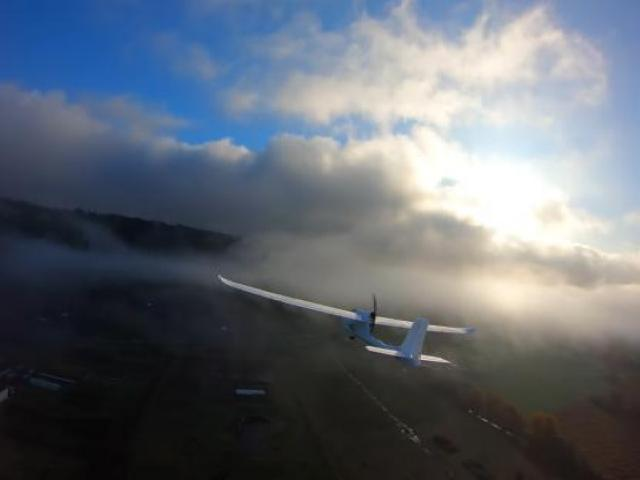uav: (206, 265, 480, 382)
